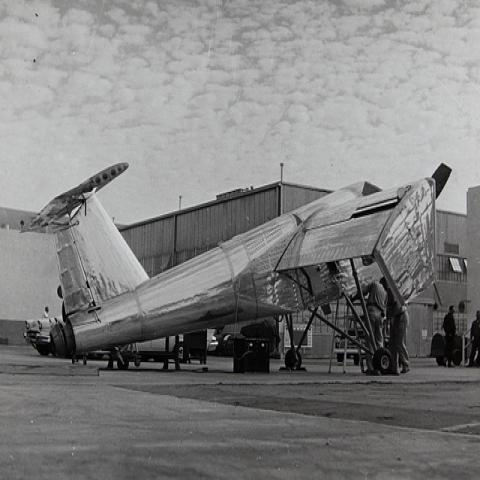car: (116, 334, 188, 363), (336, 316, 366, 366), (24, 318, 52, 356), (213, 332, 242, 359)
